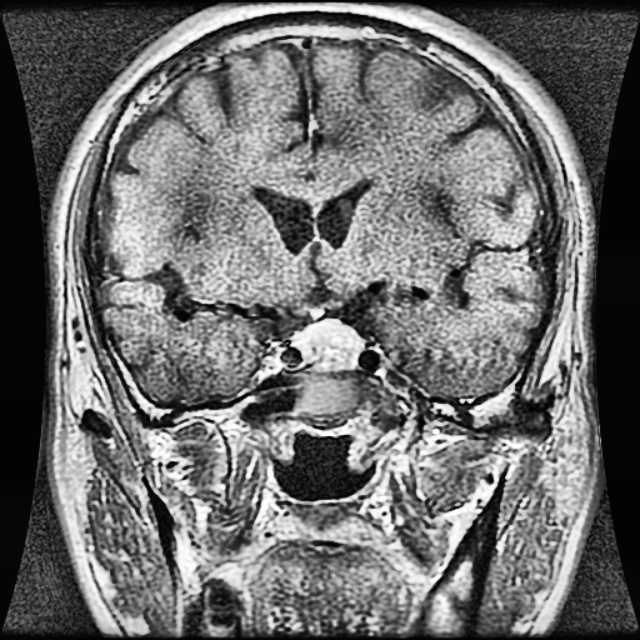Pituitary: (298, 322, 364, 369)
